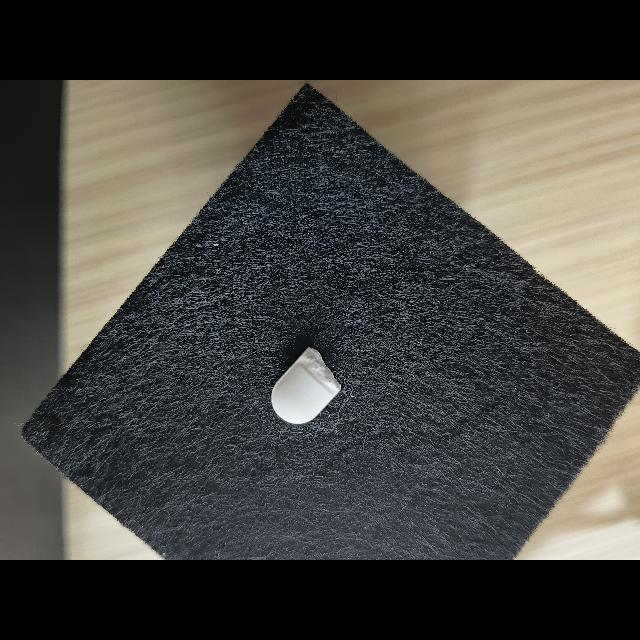Chipped Pill: (271, 347, 341, 424)
